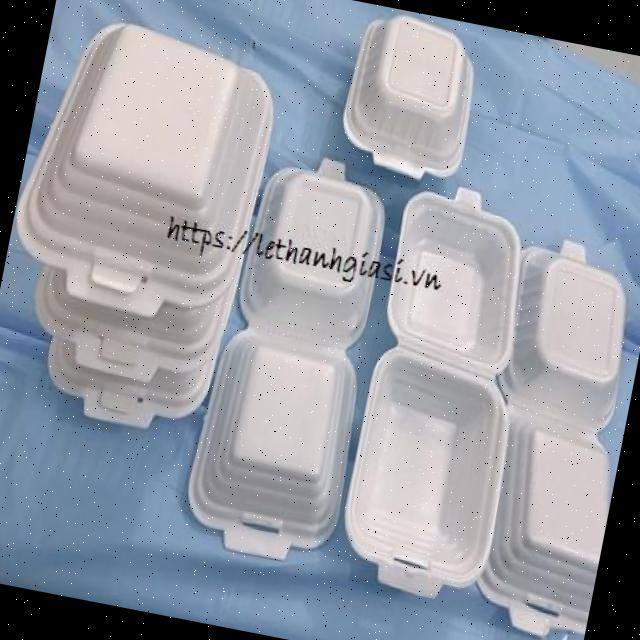styrofoam: (326, 173, 640, 640), (0, 4, 288, 442), (175, 141, 405, 571), (332, 6, 487, 188)
